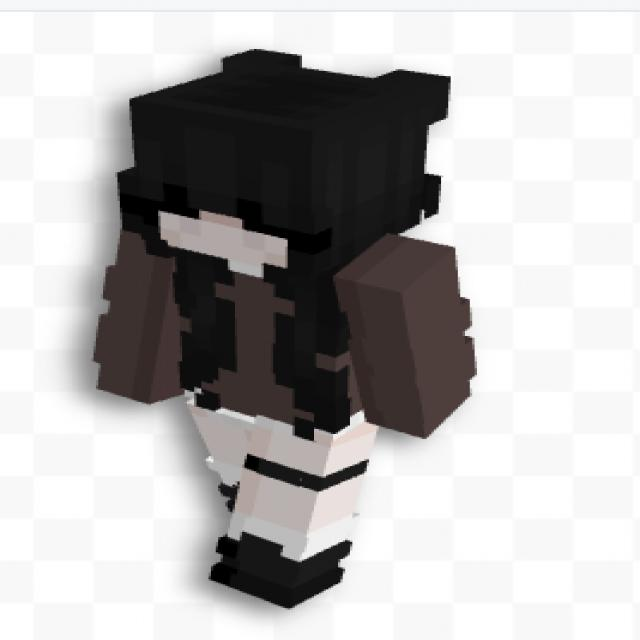Player: (90, 47, 478, 607)
